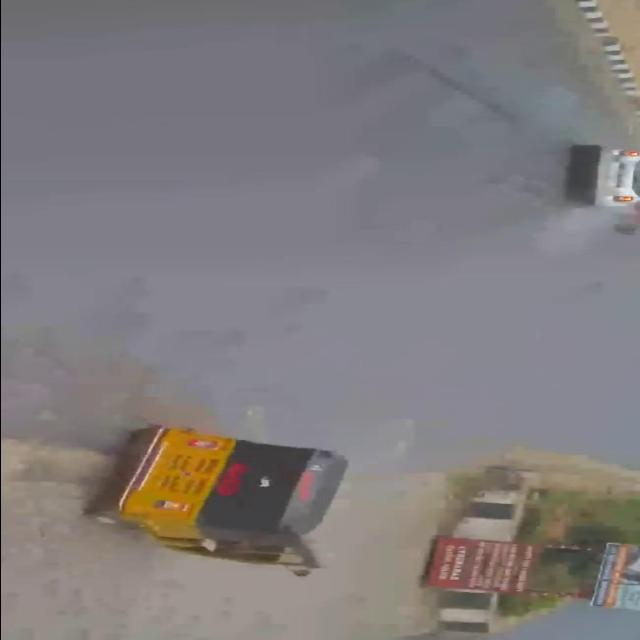accident: (561, 137, 640, 241)
